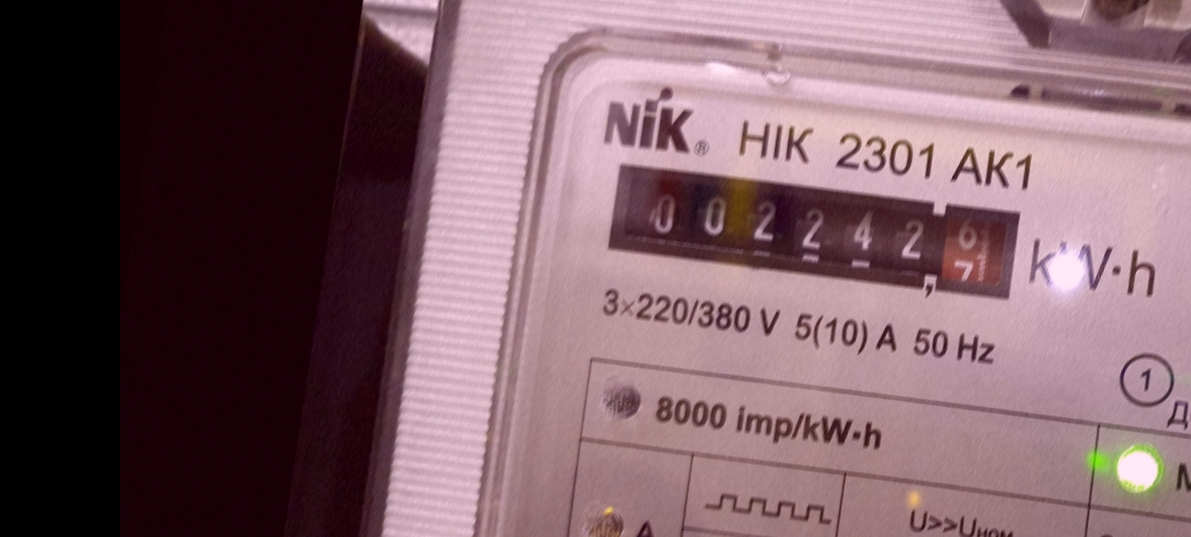0: (698, 190, 729, 236), (649, 188, 678, 236), (749, 197, 779, 242)
2: (896, 214, 927, 261), (797, 204, 827, 251)
4: (847, 205, 877, 252)
6: (952, 214, 981, 251)
7: (948, 256, 974, 282)
screen: (593, 140, 1038, 324)
